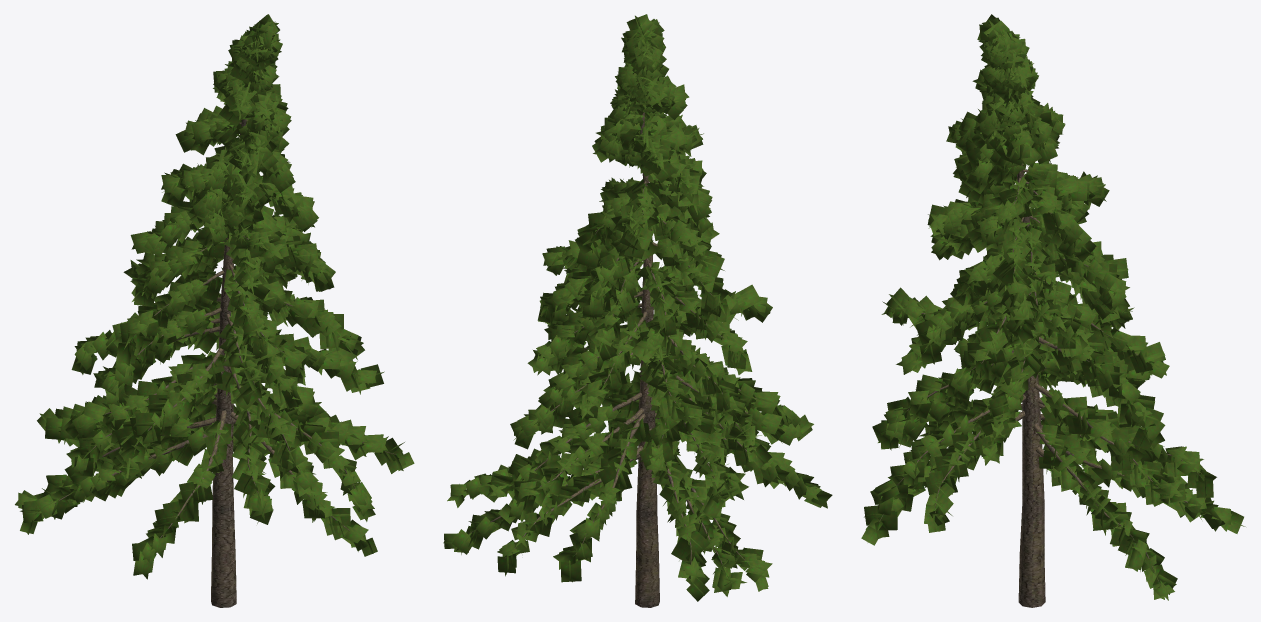
The model's file is MediumPineTree.fbx.
3 views of the same model, side by side, from view 1: azimuth 30°, elevation 25°; view 2: azimuth 150°, elevation 25°; view 3: azimuth 270°, elevation 25° (orthographic). The views are drawn at different scales.
Visible parts, largest first — view 1: Tree; view 2: Tree; view 3: Tree.
Part boxes in pixels (<box>): Tree: <box>15,14,414,607</box>; Tree: <box>443,14,832,607</box>; Tree: <box>861,14,1245,607</box>.
Size of the model in its own units: 2889 by 5110 by 2997.
